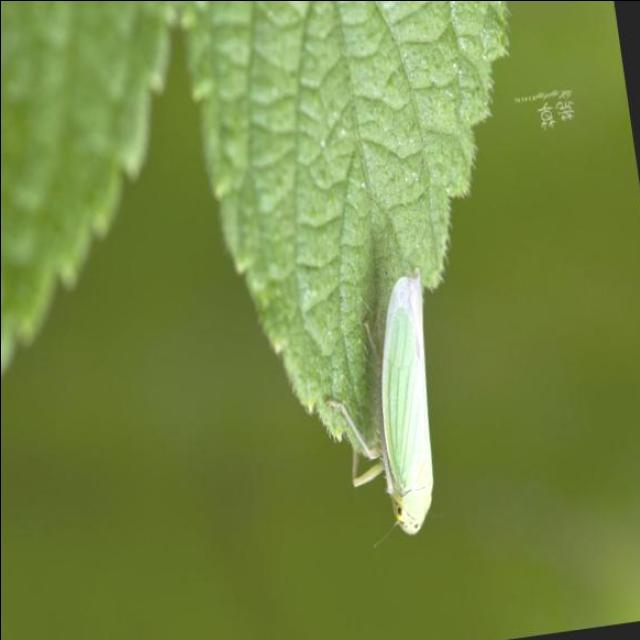green leaf hopper: (329, 276, 433, 533)
